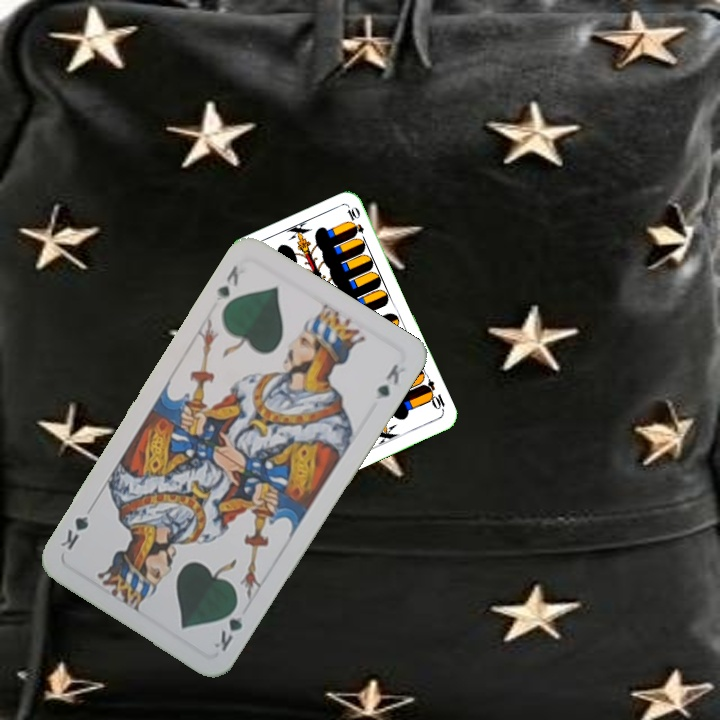E10: (419, 376, 448, 414)
GK: (210, 598, 245, 655), (211, 260, 242, 304)
